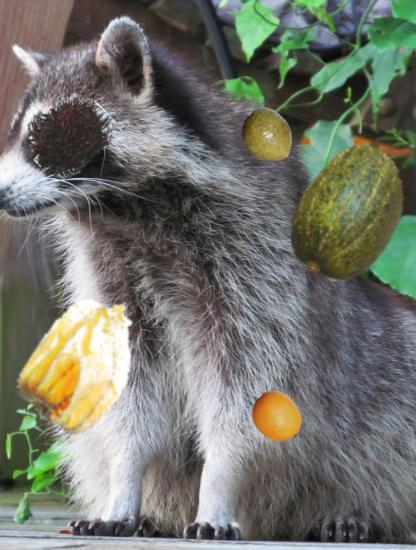Granadilla: (306, 162, 376, 232)
Guava: (240, 108, 297, 165)
Lemon: (250, 390, 306, 446)
Melon: (273, 140, 415, 282)
Physalis: (11, 288, 158, 435)
Rambutan: (24, 90, 111, 177)
